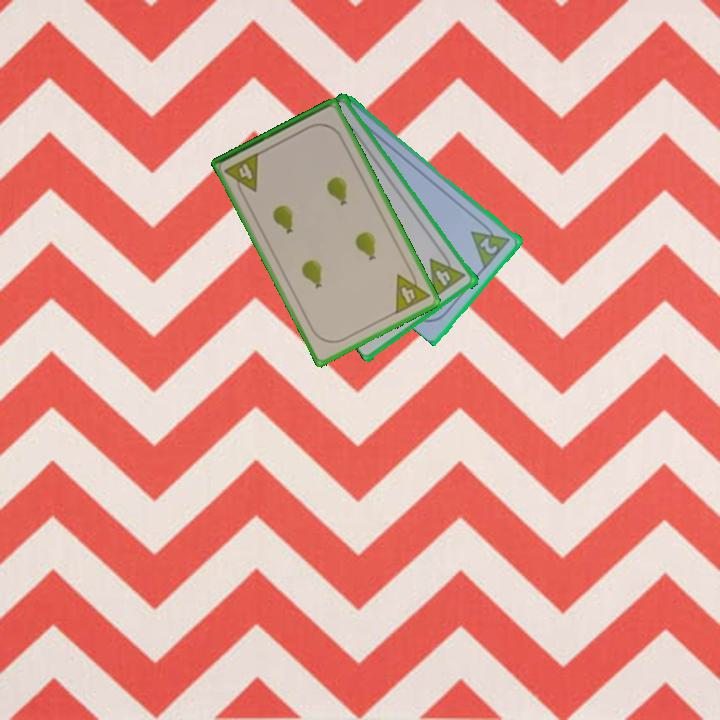2p: (476, 234, 501, 257)
4p: (426, 248, 469, 300), (391, 265, 433, 317), (221, 149, 262, 200)
